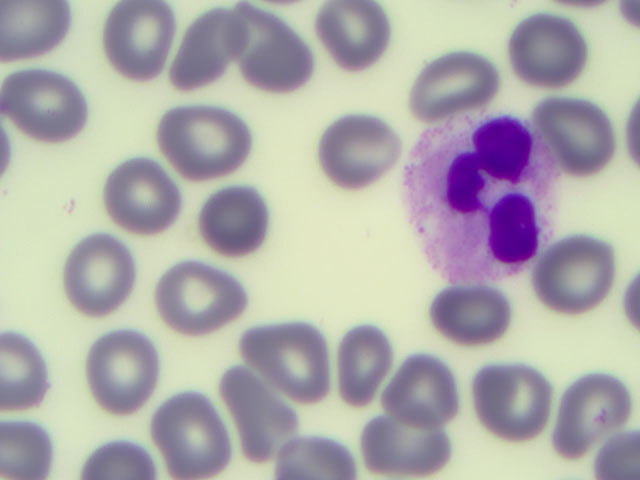RBC: (227, 3, 315, 92), (217, 376, 300, 459), (158, 107, 252, 175), (108, 2, 179, 89), (245, 327, 334, 396), (3, 75, 91, 143), (160, 263, 243, 332), (479, 362, 549, 443), (548, 98, 619, 175), (331, 110, 401, 186), (182, 11, 248, 91), (544, 242, 619, 312), (161, 396, 227, 475), (510, 10, 579, 85), (313, 2, 395, 63), (106, 164, 174, 233), (413, 60, 505, 111), (67, 237, 132, 308), (94, 331, 151, 410), (396, 361, 461, 430), (366, 421, 448, 475), (566, 373, 619, 456), (1, 1, 73, 61), (438, 287, 509, 344), (1, 332, 50, 414), (202, 190, 266, 252), (341, 330, 386, 405), (83, 438, 151, 480), (1, 422, 47, 480)
WBC: (405, 127, 543, 280)
